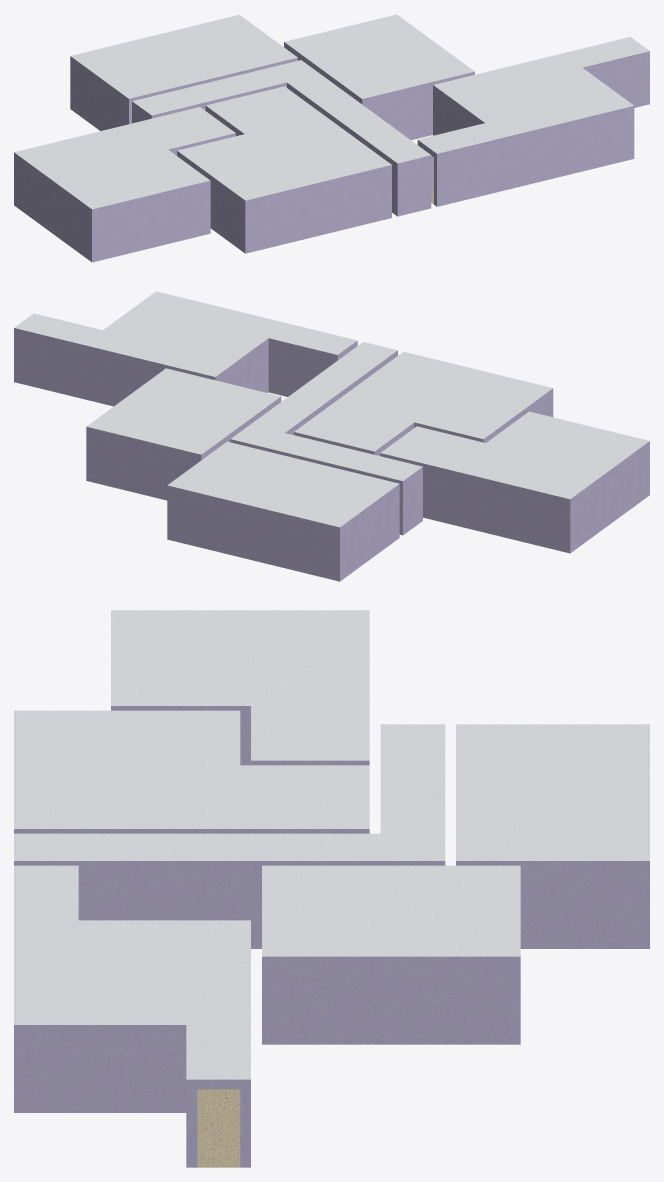
File: lvl1_appartment.glb
3 renders of one model, top to bottom at view 1: azimuth 30°, elevation 25°; view 2: azimuth 150°, elevation 25°; view 3: azimuth 270°, elevation 25°, orthographic. The views are drawn at different scales.
Visible parts, largest first — view 1: CSGCombiner3D2; view 2: CSGCombiner3D2; view 3: CSGCombiner3D2.
Boxes of the visible parts, <box> form: CSGCombiner3D2: <box>14,14,649,262</box>; CSGCombiner3D2: <box>14,291,649,581</box>; CSGCombiner3D2: <box>14,610,649,1167</box>.
Size of the model in its own units: 25.75 by 2.25 by 14.75.
Materials: 3 (3 with a texture image).
